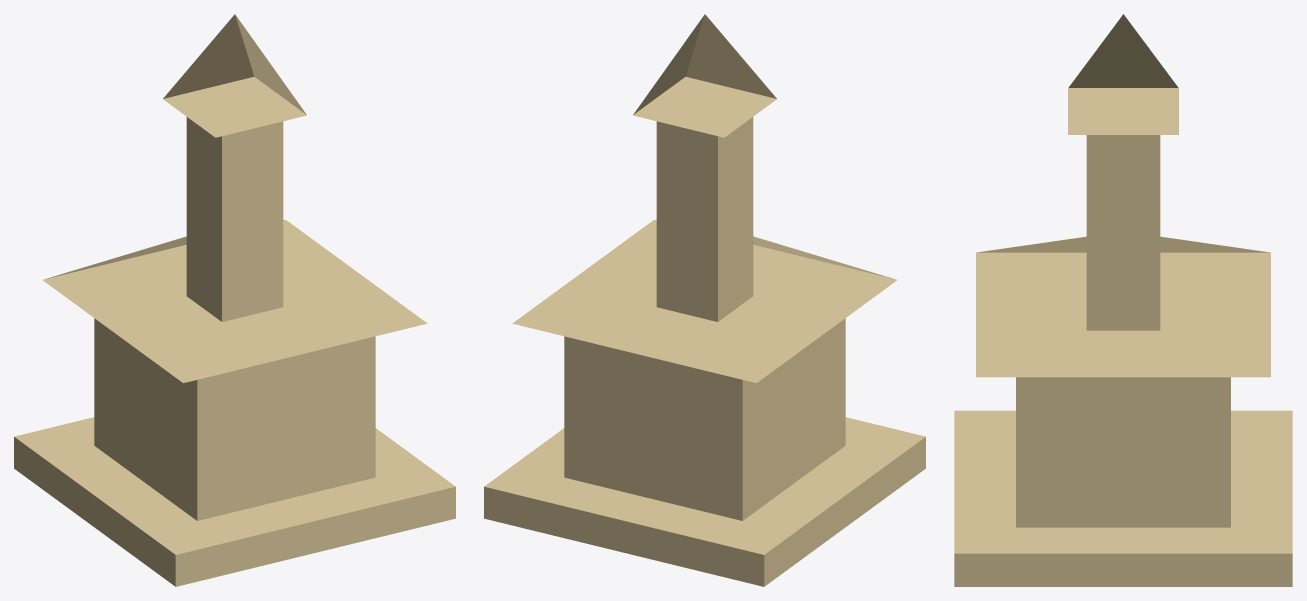
The model's file is test_landmark.glb.
3 renders of one model, left to right at view 1: azimuth 30°, elevation 25°; view 2: azimuth 150°, elevation 25°; view 3: azimuth 270°, elevation 25°, orthographic. The views are drawn at different scales.
Parts seen in each view (by area): view 1: test_landmark_root; view 2: test_landmark_root; view 3: test_landmark_root.
Part boxes in pixels (x1,y1,x2,y2): test_landmark_root: (14,14,455,586); test_landmark_root: (484,14,925,586); test_landmark_root: (954,14,1292,586).
Bounding box in the file's own units: 11 × 18 × 11.
